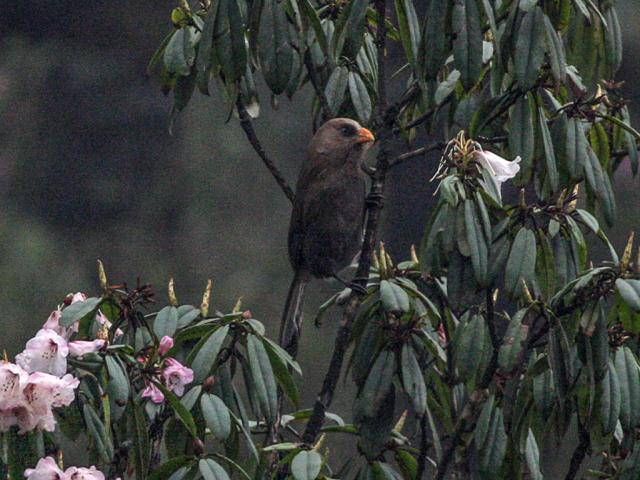Bird: (274, 116, 374, 396)
